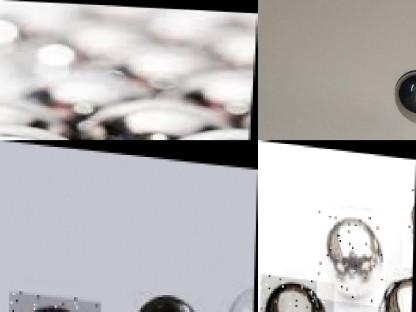ironball: (316, 204, 387, 303), (79, 95, 227, 138), (27, 73, 147, 115), (163, 71, 251, 120), (260, 274, 335, 311), (9, 290, 102, 311), (376, 266, 413, 311), (393, 69, 414, 125), (402, 179, 415, 264)
